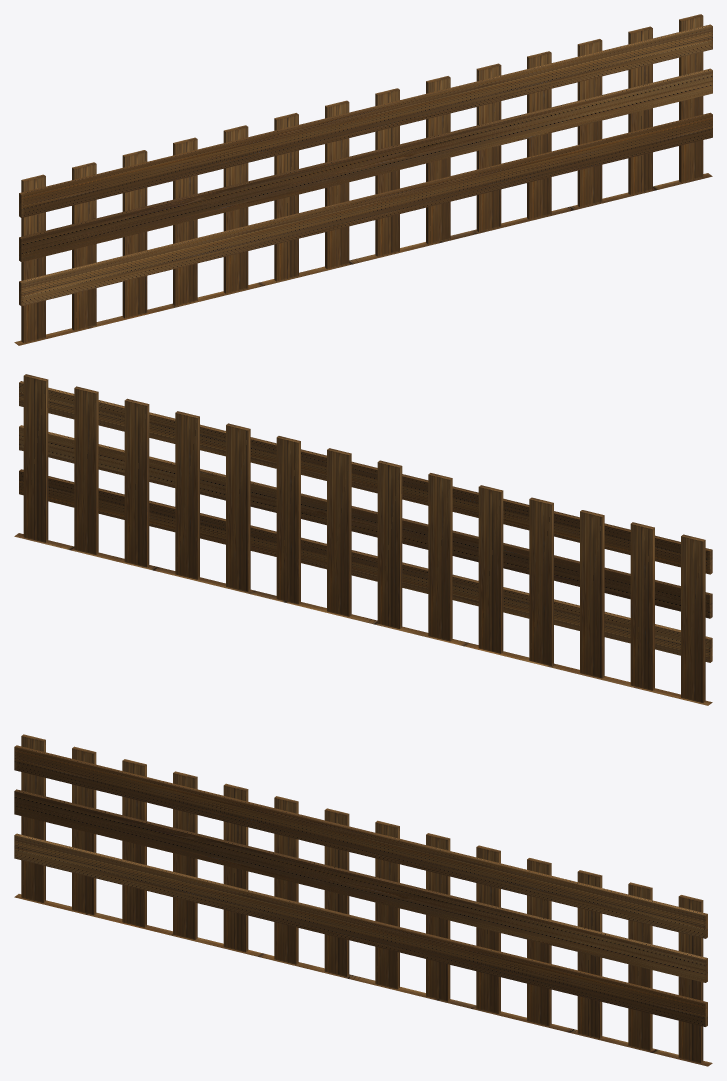
Rendered from fence.obj.
3 renders of one model, top to bottom at view 1: azimuth 30°, elevation 25°; view 2: azimuth 150°, elevation 25°; view 3: azimuth 330°, elevation 25°, orthographic.
Visible parts, largest first — view 1: fence; view 2: fence; view 3: fence.
Boxes of the visible parts, left/top/right/bottom form: fence: left=14, top=14, right=712, bottom=345; fence: left=14, top=374, right=712, bottom=705; fence: left=14, top=734, right=712, bottom=1066.
Bounding box in the file's own units: 154 × 34.33 × 2.31.
1 material, 1 textured.
